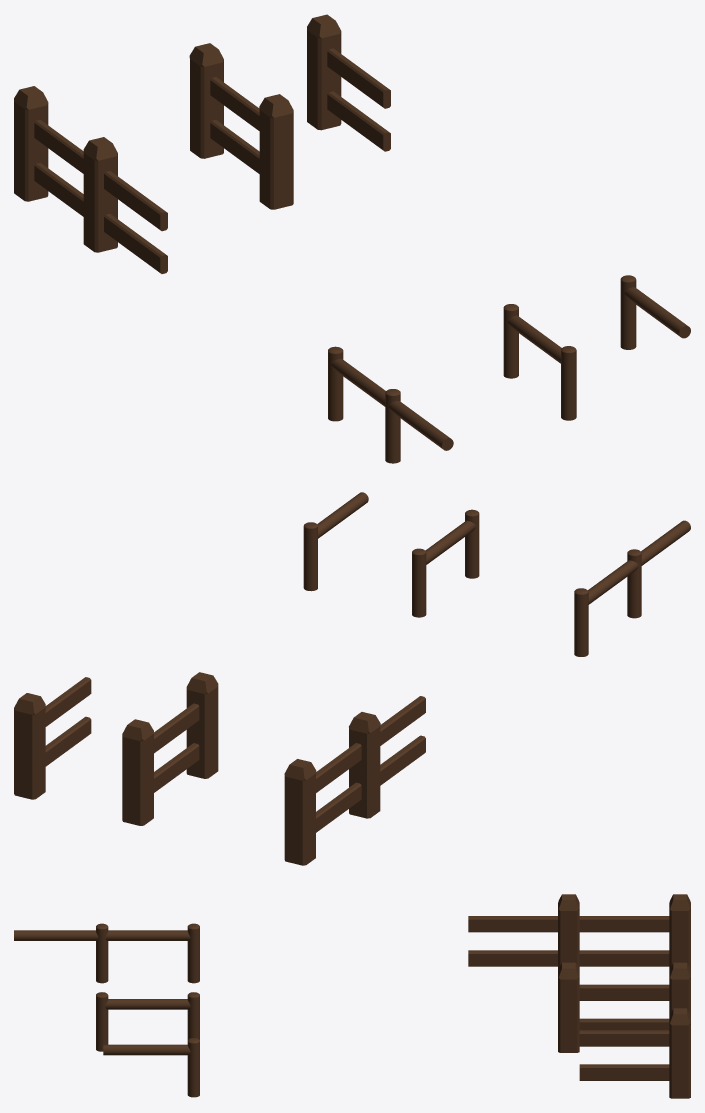
The model's file is fance.fbx.
The picture shows the model from 3 angles, top to bottom: view 1: azimuth 30°, elevation 25°; view 2: azimuth 150°, elevation 25°; view 3: azimuth 270°, elevation 25°; orthographic projection. The views are drawn at different scales.
Visible parts, largest first — view 1: Cube.011, Cube.002, Cube, Cube.006, Cube.009, Cube.007, Cube.008, Cube.004, Cube.005, Cylinder.008, Cube.010, Cube.003 (+10 smaller); view 2: Cube, Cube.009, Cube.006, Cube.011, Cube.002, Cylinder.005, Cylinder.007, Cylinder, Cube.008, Cube.007, Cube.005, Cube.001 (+10 smaller); view 3: Cube.006, Cube.011, Cube.003, Cube.007, Cube.008, Cube.001, Cube.010, Cube.004, Cube.005, Cube, Cube.002, Cube.012 (+10 smaller).
Boxes of the visible parts, left/top/right/bottom form: Cube.011: left=259, top=94, right=293, bottom=209; Cube.002: left=83, top=137, right=117, bottom=252; Cube: left=14, top=86, right=48, bottom=201; Cube.006: left=307, top=14, right=341, bottom=130; Cube.009: left=189, top=43, right=223, bottom=158; Cube.007: left=327, top=48, right=390, bottom=108; Cube.008: left=327, top=91, right=390, bottom=151; Cube.004: left=104, top=171, right=167, bottom=231; Cube.005: left=104, top=214, right=167, bottom=273; Cylinder.008: left=561, top=346, right=576, bottom=420; Cube.010: left=210, top=77, right=259, bottom=130; Cube.003: left=34, top=162, right=83, bottom=216; Cube: left=284, top=759, right=316, bottom=865; Cube.009: left=122, top=719, right=153, bottom=825; Cube.006: left=14, top=693, right=45, bottom=799; Cube.011: left=186, top=672, right=218, bottom=778; Cube.002: left=349, top=712, right=380, bottom=818; Cylinder.005: left=412, top=548, right=426, bottom=617; Cylinder.007: left=303, top=522, right=317, bottom=591; Cylinder: left=574, top=588, right=588, bottom=656; Cube.008: left=45, top=716, right=91, bottom=766; Cube.007: left=45, top=677, right=91, bottom=726; Cube.005: left=380, top=735, right=425, bottom=785; Cube.001: left=316, top=743, right=361, bottom=792; Cube.006: left=669, top=1008, right=690, bottom=1098; Cube.011: left=558, top=962, right=579, bottom=1052; Cube.003: left=579, top=950, right=669, bottom=966; Cube.007: left=579, top=1030, right=669, bottom=1046; Cube.008: left=579, top=1064, right=669, bottom=1080; Cube.001: left=579, top=916, right=669, bottom=932; Cube.010: left=579, top=984, right=669, bottom=1000; Cube.004: left=468, top=916, right=557, bottom=932; Cube.005: left=468, top=950, right=557, bottom=966; Cube: left=669, top=894, right=690, bottom=970; Cube.002: left=558, top=894, right=579, bottom=970; Cube.012: left=579, top=1018, right=669, bottom=1030.
Bounding box in the file's own units: 5.4 × 12.53 × 1.7.
